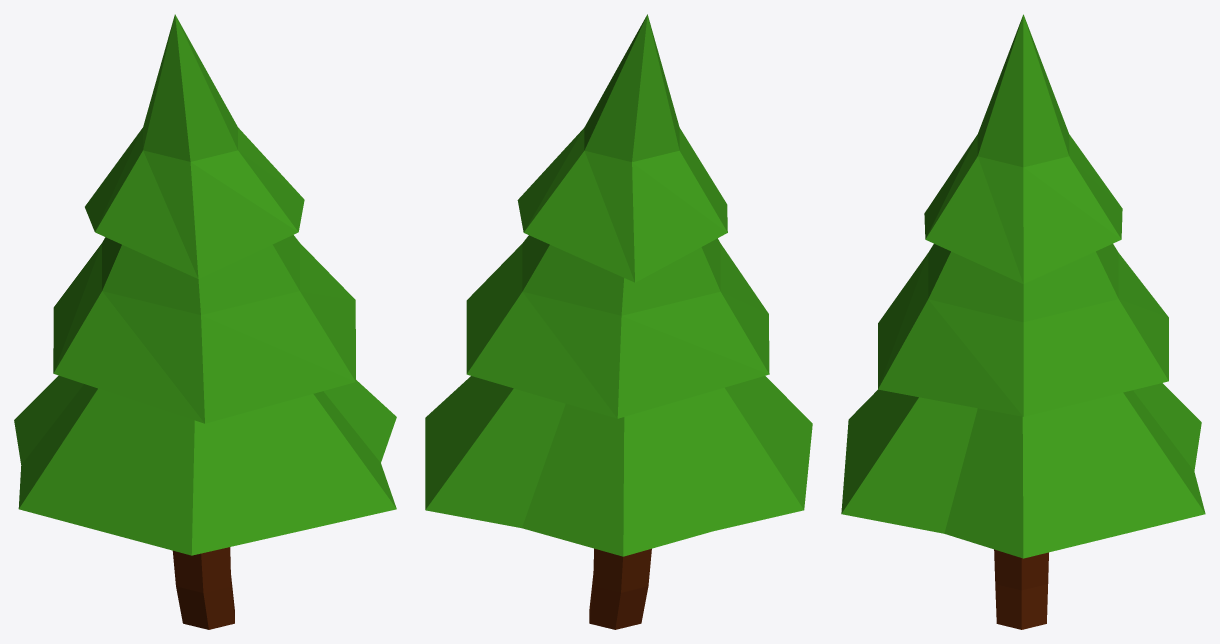
Rendered from tree_pine_03.FBX.
3 renders of one model, left to right at view 1: azimuth 30°, elevation 25°; view 2: azimuth 150°, elevation 25°; view 3: azimuth 270°, elevation 25°, orthographic. The views are drawn at different scales.
Visible parts, largest first — view 1: tree_pine_03; view 2: tree_pine_03; view 3: tree_pine_03.
Boxes of the visible parts, x1,y1,x2,y2 form: tree_pine_03: [14, 14, 396, 629]; tree_pine_03: [425, 14, 812, 629]; tree_pine_03: [841, 14, 1205, 629].
Size of the model in its own units: 152 by 234 by 131.
